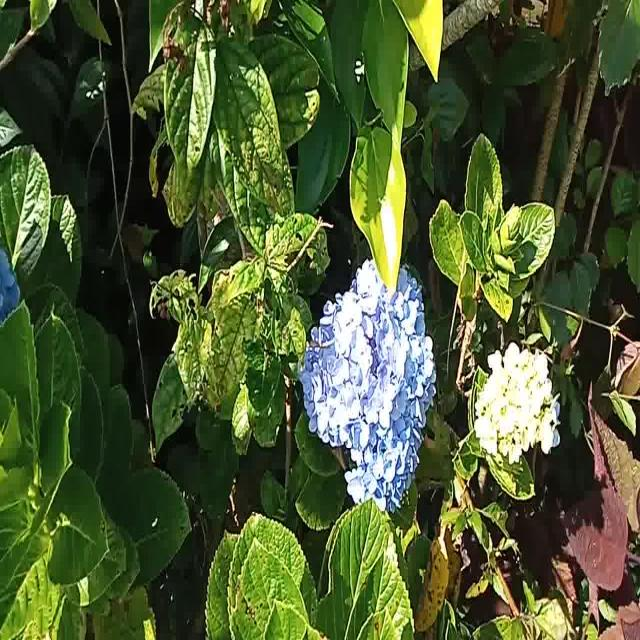Flower: (308, 255, 436, 509), (475, 336, 563, 460)
